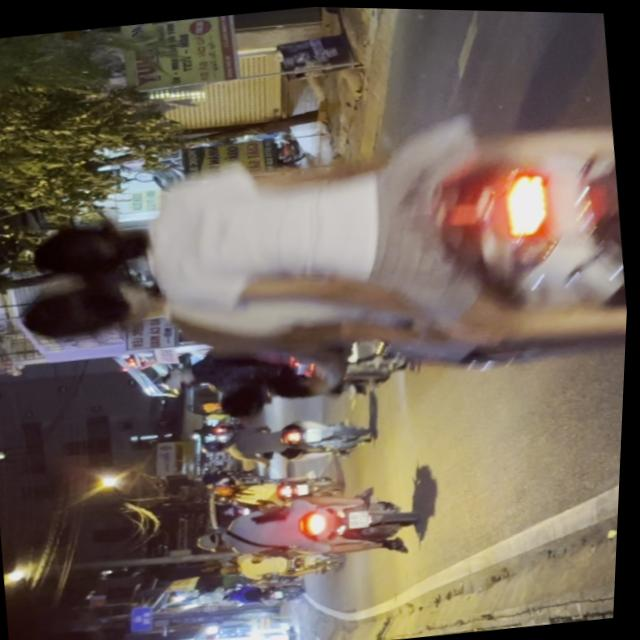licenseplate: (0, 76, 637, 441), (187, 474, 437, 574)
motorcyclist: (14, 259, 167, 348), (29, 210, 154, 284), (195, 525, 237, 554)
nohelmet: (350, 505, 375, 526)
